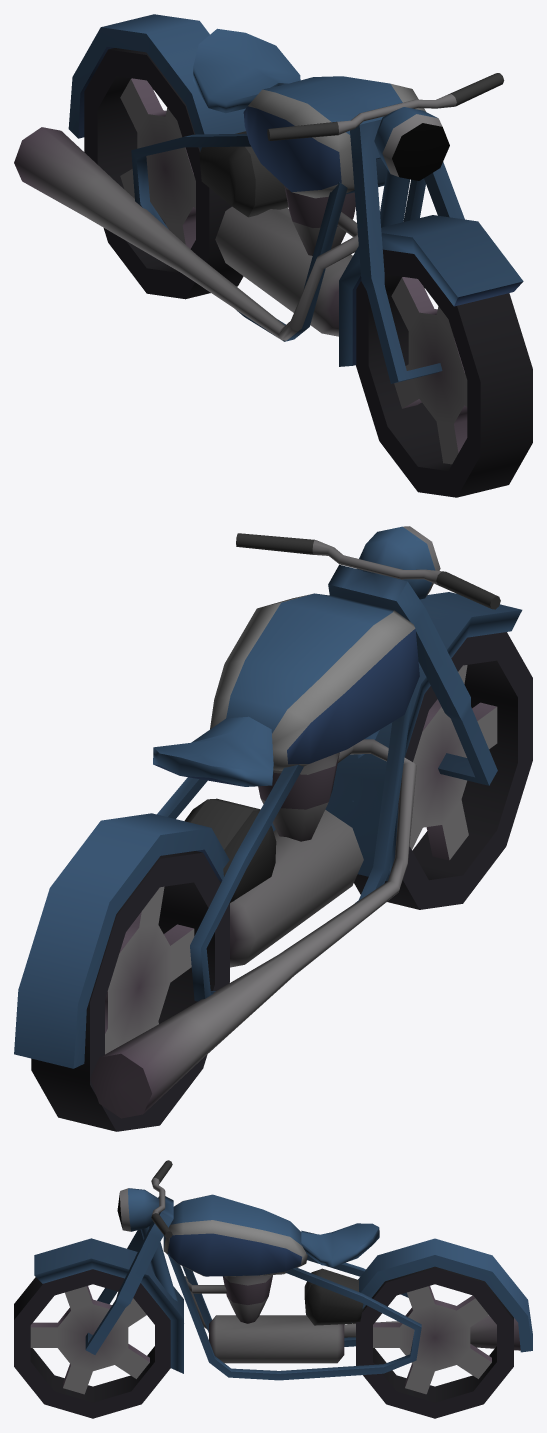
The model's file is vehicles-bikes-motorcycle_v1.fbx.
3 views of the same model, one above another, from view 1: azimuth 30°, elevation 25°; view 2: azimuth 150°, elevation 25°; view 3: azimuth 270°, elevation 25° (orthographic). The views are drawn at different scales.
Visible parts, largest first — view 1: Motorcycle; view 2: Motorcycle; view 3: Motorcycle.
Boxes of the visible parts, bbox=[...] form: Motorcycle: bbox=[14, 14, 532, 497]; Motorcycle: bbox=[14, 526, 532, 1131]; Motorcycle: bbox=[14, 1160, 532, 1418].
Size of the model in its own units: 0.7224 by 1.04 by 2.2.
